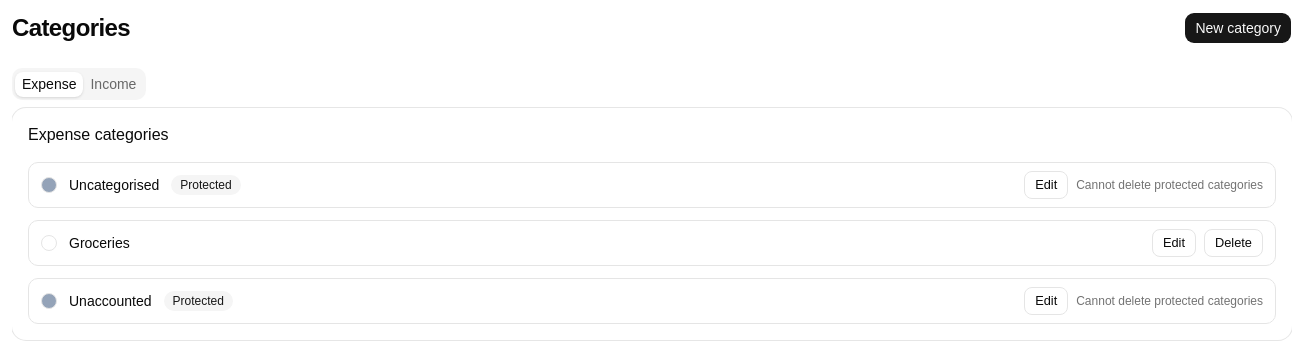
Test: CategoriesPage › keeps expense and income categories in separate tabs
expect the text "Groceries" is shown: met, box x1=69 y1=233 x2=130 y2=253
expect the text "Salary" is not shown: met
Click the tab "Income". click: (113, 84)
box: x1=84 y1=72 x2=143 y2=96
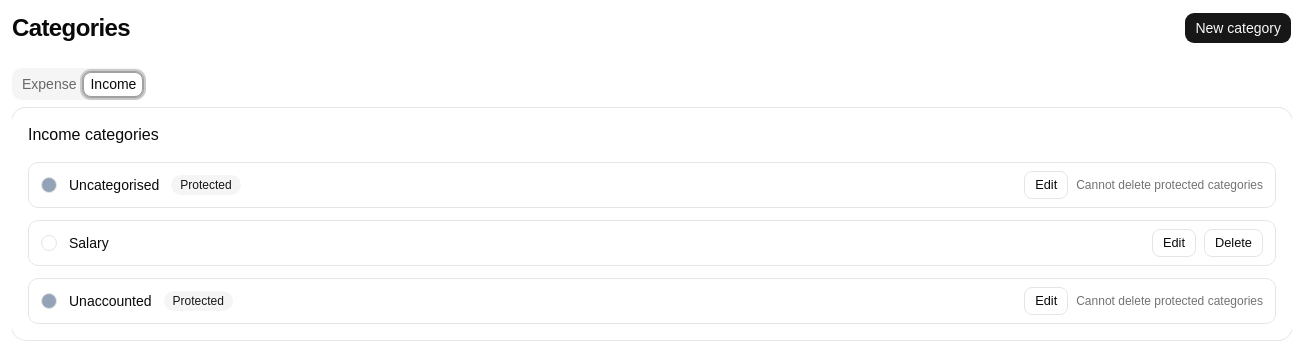
expect the text "Salary" is shown: met, box x1=69 y1=233 x2=109 y2=253
expect the text "Groceries" is gone: met
